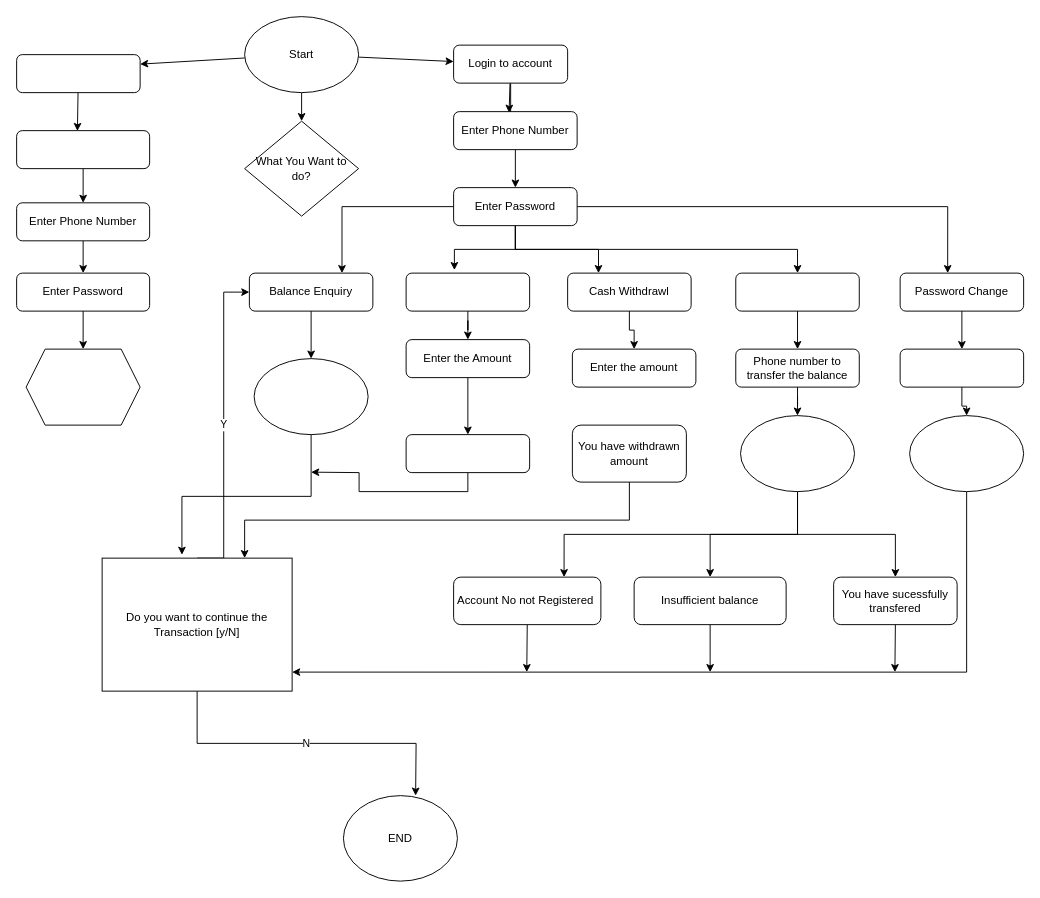
The diagram is 1040 pixels wide and 898 high, and some of its shapes have lost their labels. Each missing label, with the box of its shape:
Account Sucessfully Registered: (25, 348, 140, 425)
Depositing Cash: (405, 272, 530, 311)
Enter account Name: (16, 130, 150, 169)
Enter the amount the transfer: (740, 415, 855, 492)
Online Transfer: (735, 272, 859, 311)
Password Change sucessfully: (909, 415, 1024, 492)
Please enter your new Password: (899, 348, 1024, 387)
Register an account: (16, 54, 140, 93)
Sucessfully Deposited: (405, 434, 530, 473)
Total Amount Visible in Account: (253, 358, 368, 435)
